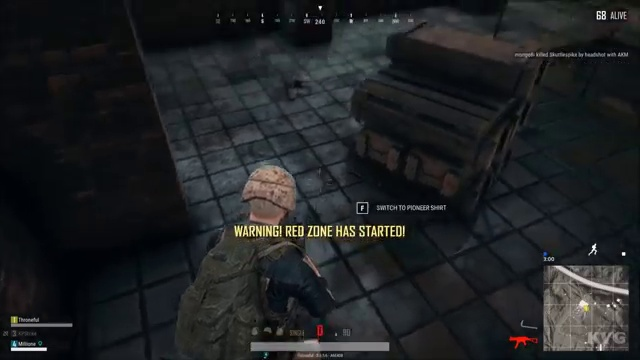Player: (183, 164, 340, 323)
